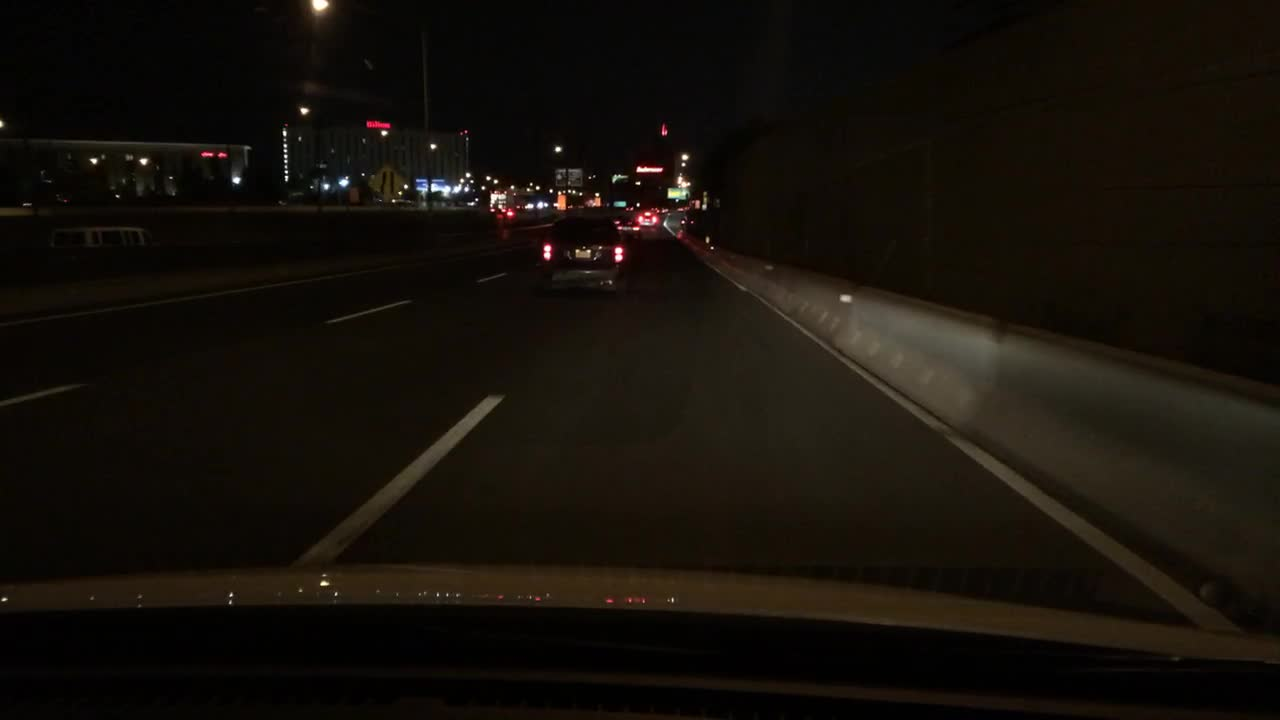car: (539, 214, 624, 293), (50, 226, 152, 247), (22, 193, 74, 210), (613, 215, 642, 240), (636, 209, 657, 227), (496, 206, 517, 224), (465, 196, 485, 208), (524, 200, 545, 209), (655, 207, 668, 215), (623, 203, 633, 212), (676, 206, 685, 212)
traffic light: (660, 122, 671, 137)
traffic sign: (367, 165, 406, 201), (554, 168, 582, 189), (668, 187, 688, 198), (349, 186, 358, 203), (557, 194, 565, 209), (614, 200, 624, 206)
truck: (488, 188, 516, 213)
